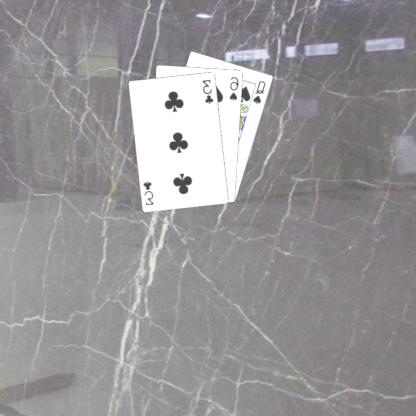3C: (142, 178, 157, 206), (202, 77, 216, 105)
6S: (229, 74, 242, 102)
QS: (252, 78, 269, 105)
